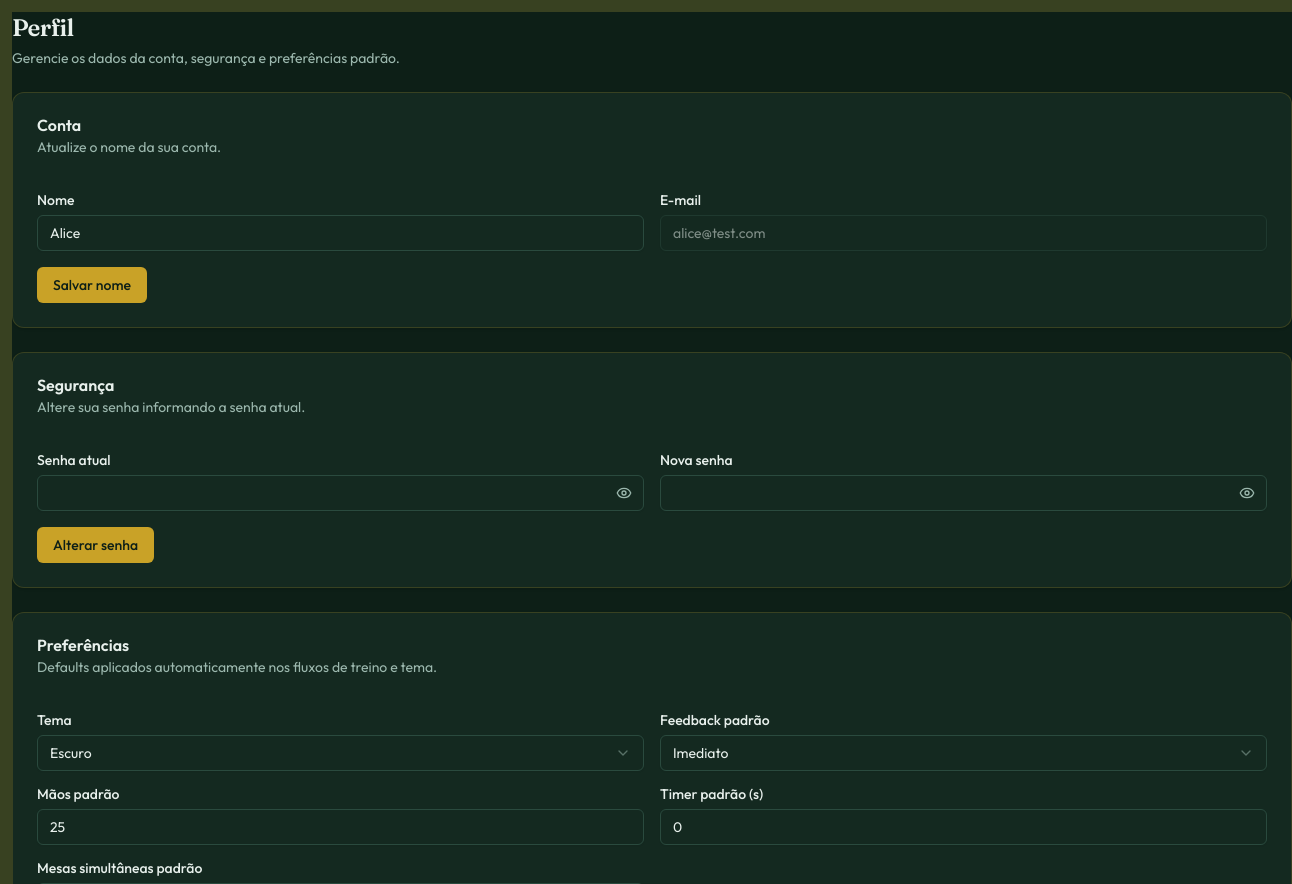
it: ProfilePage › mostra erro de senha atual inválida no formulário de segurança
Type "errada" into the password field labelled "Senha atual" at (340, 493), box [37,475,644,511]
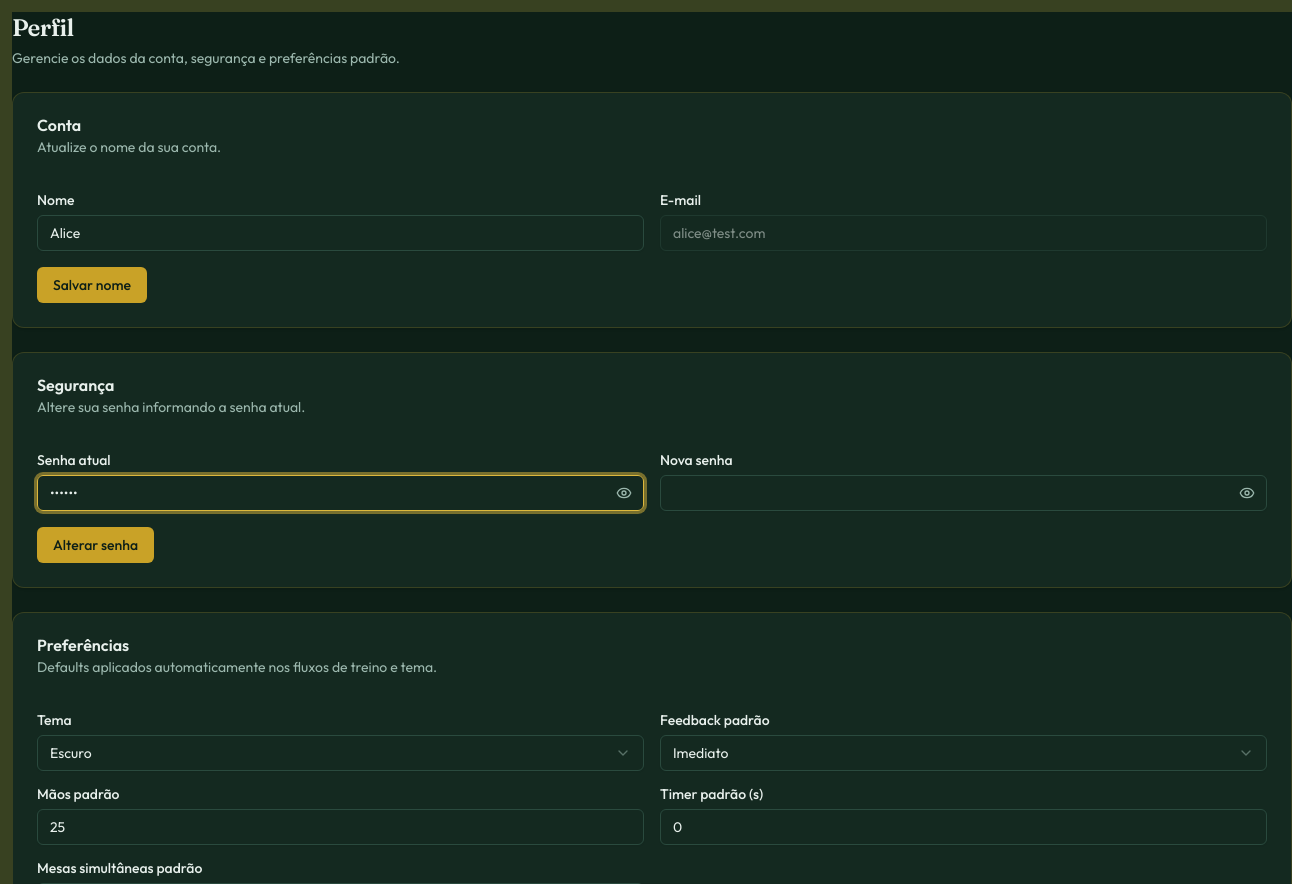
Type "nova-senha-segura" into the password field labelled "Nova senha" at (964, 493), box [660,475,1267,511]
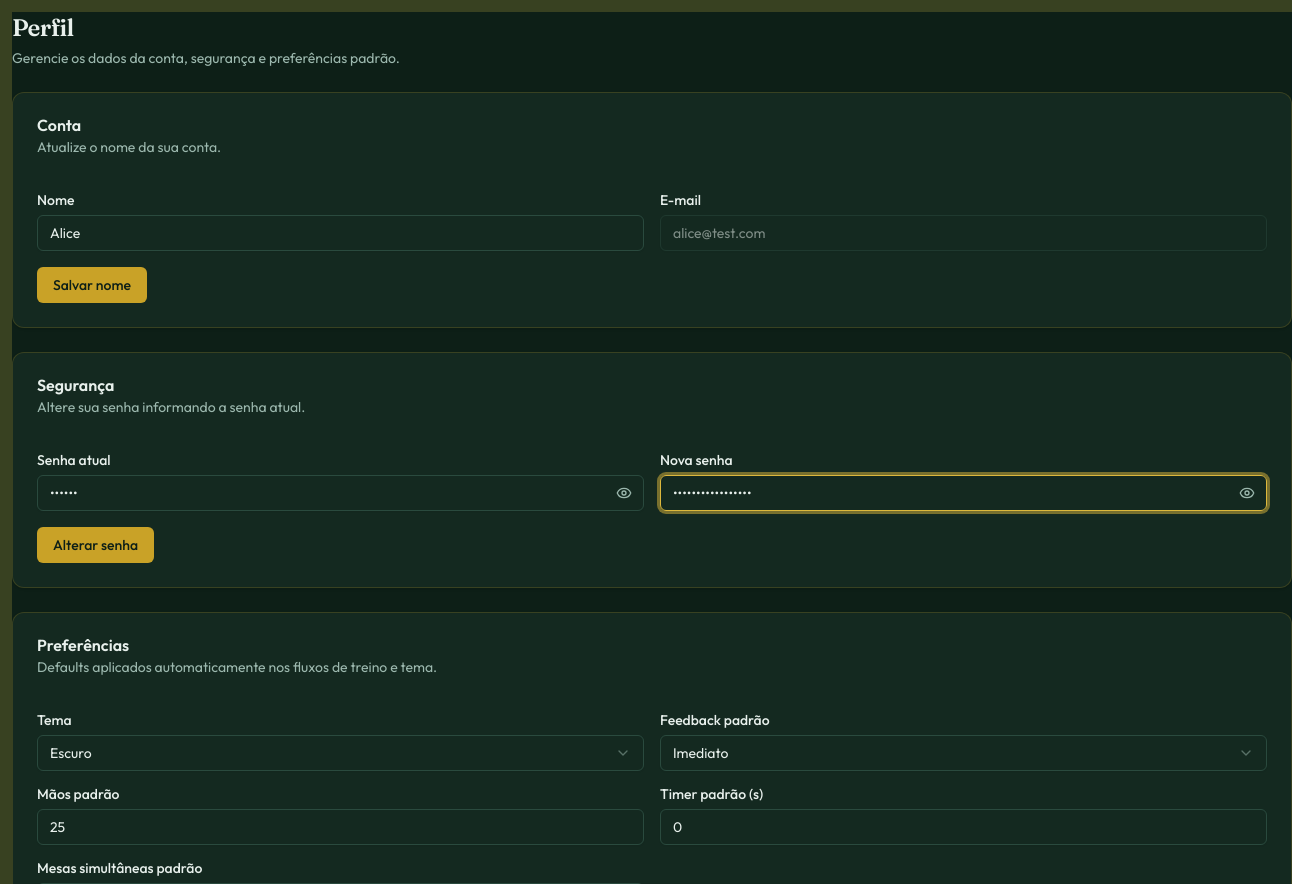
Click the button "Alterar senha" at (96, 545), box [37,527,154,563]
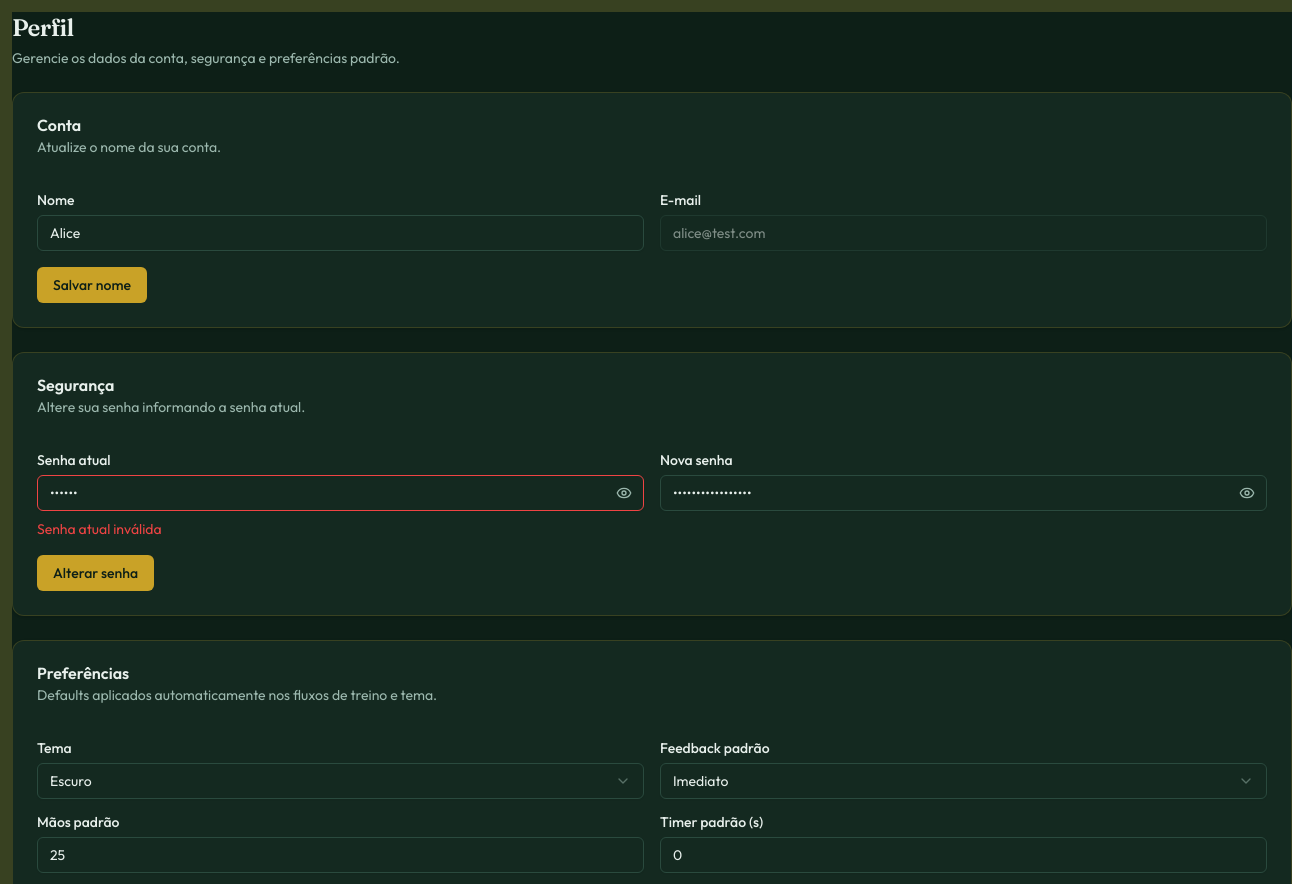
Now the text "Senha atual inválida" is shown, box [37,520,162,538]
